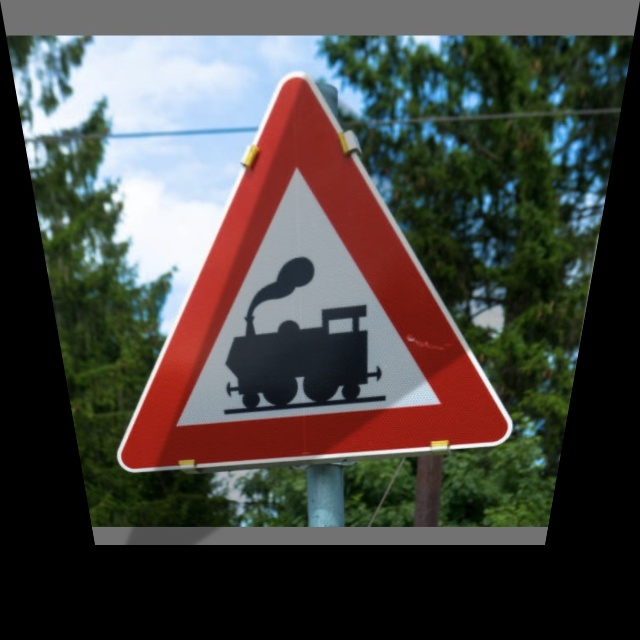Unguarded_Level_Crossing: (79, 76, 548, 463)
